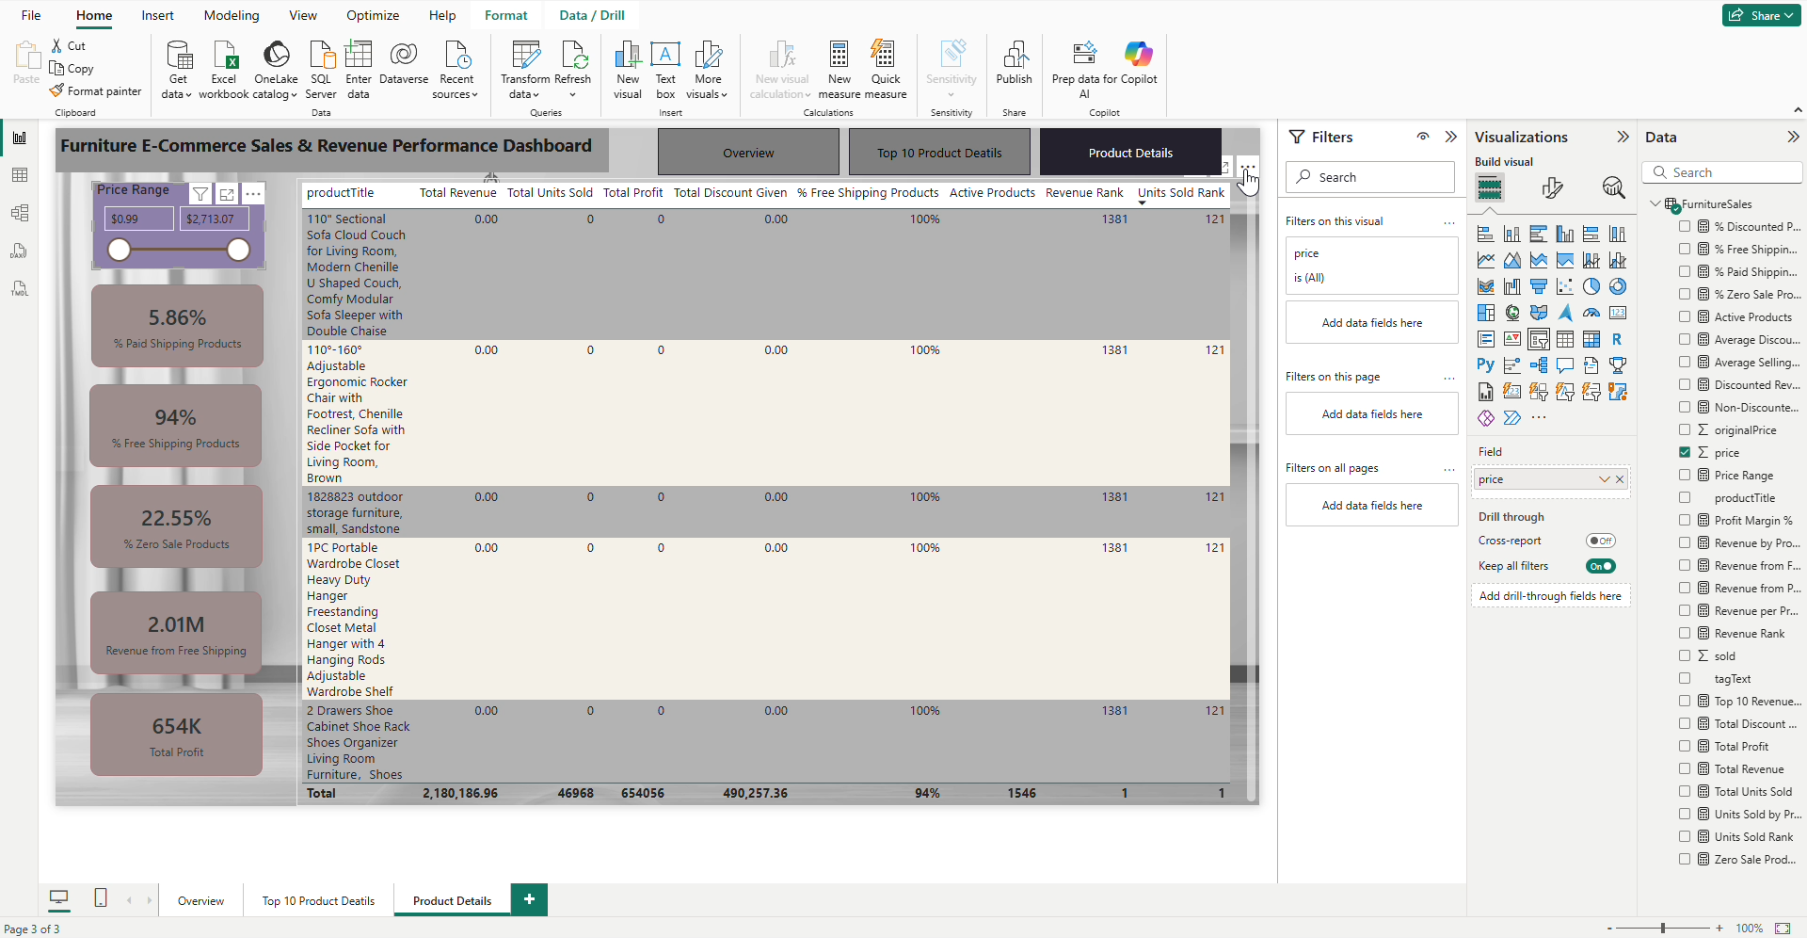

What the dashboard file says about the page in this screenshot:
{"tool":"powerbi","page":{"name":"Product Details","canvas":[1280,720],"ordinal":2},"visuals":[{"type":"actionButton","box":[0,0,100,40],"z":0},{"type":"textbox","box":[0,0,588.4,46.7],"z":1000},{"type":"tableEx","fields":{"Values":["FurnitureSales.productTitle","FurnitureSales.Total Revenue","FurnitureSales.Total Units Sold","FurnitureSales.Total Profit","FurnitureSales.Total Discount Given","FurnitureSales.% Free Shipping Products","FurnitureSales.Active Products","FurnitureSales.Revenue Rank","FurnitureSales.Units Sold Rank"]},"box":[255.8,76.8,1024.2,629.3],"z":2000},{"type":"slicer","title":"Price Range","fields":{"Values":["FurnitureSales.price"]},"box":[39.9,76.4,183.8,92.4],"z":3000},{"type":"card","title":"Top 10 Revenue Contribution","fields":{"Values":["FurnitureSales.% Paid Shipping Products"]},"box":[38.9,185.3,182.9,87.5],"z":4000},{"type":"card","title":"Top 10 Revenue Contribution","fields":{"Values":["FurnitureSales.% Free Shipping Products"]},"box":[37,291.3,182.9,87.5],"z":5000},{"type":"card","title":"Top 10 Revenue Contribution","fields":{"Values":["FurnitureSales.% Zero Sale Products"]},"box":[37.9,398.3,182.9,87.5],"z":6000},{"type":"card","title":"Top 10 Revenue Contribution","fields":{"Values":["FurnitureSales.Revenue from Free Shipping"]},"box":[37.9,511.1,181.9,87.5],"z":7000},{"type":"card","title":"Top 10 Revenue Contribution","fields":{"Values":["FurnitureSales.Total Profit"]},"box":[37.9,619.1,182.9,87.5],"z":8000},{"type":"pageNavigator","box":[640,0,600.1,49.6],"z":9000}]}

Visuals, with their boxes on the page's 1280x720 design canvas (x1, y1, x2, y2). These are canvas units, not pixel positions in the 1807x938 screenshot, which may show the page scaled, cropped or inside an application window:
actionButton: [left=0, top=0, right=100, bottom=40]
textbox: [left=0, top=0, right=588, bottom=47]
tableEx - FurnitureSales.productTitle x FurnitureSales.Total Revenue: [left=256, top=77, right=1280, bottom=706]
"Price Range" slicer: [left=40, top=76, right=224, bottom=169]
"Top 10 Revenue Contribution" card: [left=39, top=185, right=222, bottom=273]
"Top 10 Revenue Contribution" card: [left=37, top=291, right=220, bottom=379]
"Top 10 Revenue Contribution" card: [left=38, top=398, right=221, bottom=486]
"Top 10 Revenue Contribution" card: [left=38, top=511, right=220, bottom=599]
"Top 10 Revenue Contribution" card: [left=38, top=619, right=221, bottom=707]
pageNavigator: [left=640, top=0, right=1240, bottom=50]
